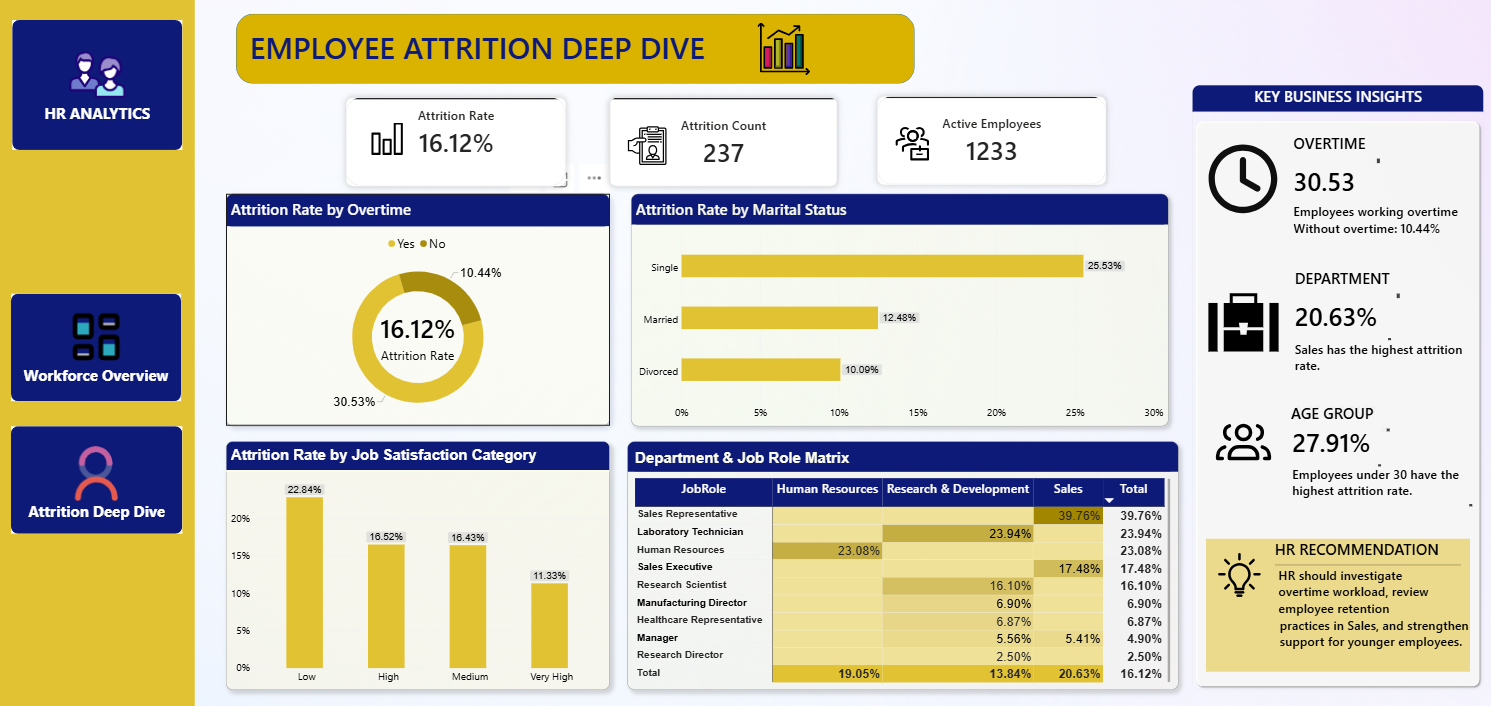

This screenshot's page, from the dashboard's own definition file:
{"tool":"powerbi","page":{"name":"Attrition Deep Dive","canvas":[4000,2000],"ordinal":1},"visuals":[{"type":"shape","box":[0,0,530,1956.7],"z":0},{"type":"shape","box":[640,90,1810,186.7],"z":0,"group":"g9"},{"type":"group","id":"g1","title":"Group 2","box":[3409.1,1491.1,519.7,354.5],"z":0,"group":"g4"},{"type":"textbox","title":"AGE GROUP","box":[3458.9,1124.4,243.3,81.9],"z":1000},{"type":"image","box":[3226.7,1513.3,178,146.7],"z":1000,"group":"g4"},{"type":"donutChart","title":"Attrition Rate by Overtime","fields":{"Category":["HR.OverTime"],"Y":["HR.Attrition Rate"]},"box":[613.3,570,1023.3,620],"z":2000},{"type":"textbox","title":"27.91%","box":[3455.6,1184.5,236.8,110.4],"z":2000,"group":"g8"},{"type":"shape","title":"KEY BUSINESS INSIGHTS","box":[3190,280,776.7,1613.3],"z":3000},{"type":"textbox","title":"Employees under 30 have the highest attrition rate.","box":[3454.5,1293.7,480,110.4],"z":3000,"group":"g8"},{"type":"clusteredColumnChart","fields":{"Category":["HR.Job Satisfaction Category"],"Y":["HR.Attrition Rate"]},"box":[613.3,1230,1023.3,663.3],"z":4000},{"type":"group","id":"g2","title":"Group 1","box":[3460,406.7,480,293.3],"z":5000,"group":"g5"},{"type":"textbox","title":"DEPARTMENT","box":[3463.4,767.5,280,81.9],"z":5000,"group":"g3"},{"type":"pivotTable","title":"Department & Job Role Matrix","fields":{"Columns":["HR.Department"],"Rows":["HR.JobRole"],"Values":["HR.Attrition Rate"]},"box":[1683.3,1230,1470,663.3],"z":5000},{"type":"cardVisual","fields":{"Data":["HR.Attrition Count"]},"box":[1636.7,313.3,606.7,236.7],"z":6000,"group":"g10"},{"type":"textbox","title":"20.63%","box":[3463.4,849.4,256.7,110.4],"z":6000,"group":"g3"},{"type":"cardVisual","fields":{"Data":["HR.Attrition Rate"]},"box":[933.3,313.3,586.7,236.7],"z":7000,"group":"g11"},{"type":"group","id":"g3","title":"Group 5","box":[3463.4,767.5,486.7,288.3],"z":7000,"group":"g6"},{"type":"textbox","title":"Sales has the highest attrition rate.","box":[3463.4,959.7,486.7,96.1],"z":7000,"group":"g3"},{"type":"clusteredBarChart","title":"Attrition Rate by Marital Status","fields":{"Category":["HR.MaritalStatus"],"Y":["HR.Attrition Rate"]},"box":[1693.3,570,1433.3,620],"z":8000},{"type":"actionButton","box":[40,1190,456.7,286.7],"z":9000},{"type":"actionButton","box":[40,836.7,453.3,286.7],"z":10000},{"type":"actionButton","box":[43.3,106.7,453.3,346.7],"z":11000},{"type":"cardVisual","fields":{"Data":["HR.Active Employees"]},"box":[2350,310,610,236.7],"z":12000,"group":"g12"},{"type":"textbox","title":"Age Group","box":[1986.7,73.3,498.2,6.5],"z":13000},{"type":"textbox","title":"OVERTIME ","box":[3461.1,406.7,230,81.9],"z":13000,"group":"g2"},{"type":"textbox","title":"EMPLOYEE ATTRITION DEEP DIVE","box":[675,125,1750,191.5],"z":14000,"group":"g9"},{"type":"group","id":"g4","title":"Group 4","box":[3226.7,1491.1,702.1,354.5],"z":14000},{"type":"textbox","title":"HR RECOMMENDATION","box":[3409.1,1491.1,497,71.8],"z":14000,"group":"g1"},{"type":"group","id":"g5","title":"Group 6","box":[3210,406.7,730,293.3],"z":15000},{"type":"textbox","title":"30.53%","box":[3461.1,488.6,220,81.9],"z":15000,"group":"g2"},{"type":"textbox","title":"HR should investigate overtime workload, review employee retention ","box":[3420,1564.4,461.5,146.9],"z":15000,"group":"g1"},{"type":"textbox","title":"Employees working overtime Without overtime: 10.44%","box":[3460,594.2,480,103.2],"z":16000,"group":"g2"},{"type":"group","id":"g6","title":"Group 7","box":[3226.7,767.5,723.3,288.3],"z":16000},{"type":"textbox","title":"practices in Sales, and strengthen support for younger employees.","box":[3421.6,1698.7,507.1,146.9],"z":16000,"group":"g1"},{"type":"textbox","title":"AGE GROUP","box":[3452.3,1125.6,263.3,76.7],"z":16002,"group":"g8"},{"type":"group","id":"g7","title":"Group 8","box":[3226.7,1125.6,707.8,278.4],"z":17000},{"type":"group","id":"g8","title":"Group 3","box":[3452.3,1125.6,482.2,278.4],"z":17000,"group":"g7"},{"type":"image","box":[996.6,380,93.3,86.7],"z":18000,"group":"g11"},{"type":"image","box":[3210,430,230,200],"z":18001,"group":"g5"},{"type":"image","box":[3226.7,820,200,186.7],"z":18002,"group":"g6"},{"type":"image","box":[3226.7,1156.7,200,150],"z":18003,"group":"g7"},{"type":"image","box":[2380,386.7,126.7,100],"z":19000,"group":"g12"},{"type":"image","box":[1683.4,383.3,106.7,116.7],"z":20000,"group":"g10"},{"type":"group","id":"g9","title":"Group 9","box":[640,90,1810,223.3],"z":21000},{"type":"image","box":[1940,113.3,315,140],"z":21002},{"type":"group","id":"g10","title":"Group 10","box":[1636.7,313.3,606.7,236.7],"z":21003},{"type":"group","id":"g11","title":"Group 11","box":[933.3,313.3,586.7,236.7],"z":21004},{"type":"group","id":"g12","title":"Group 12","box":[2350,310,610,236.7],"z":21005}]}

Visuals, with their boxes on the page's 4000x2000 design canvas (x1, y1, x2, y2). These are canvas units, not pixel positions in the 1491x706 screenshot, which may show the page scaled, cropped or inside an application window:
shape: 0, 0, 530, 1957
shape: 640, 90, 2450, 277
"Group 2" group: 3409, 1491, 3929, 1846
"AGE GROUP" textbox: 3459, 1124, 3702, 1206
image: 3227, 1513, 3405, 1660
"Attrition Rate by Overtime" donutChart: 613, 570, 1637, 1190
"27.91%" textbox: 3456, 1184, 3692, 1295
"KEY BUSINESS INSIGHTS" shape: 3190, 280, 3967, 1893
"Employees under 30 have the highest attrition rate." textbox: 3454, 1294, 3934, 1404
clusteredColumnChart - HR.Job Satisfaction Category x HR.Attrition Rate: 613, 1230, 1637, 1893
"Group 1" group: 3460, 407, 3940, 700
"DEPARTMENT" textbox: 3463, 768, 3743, 849
"Department & Job Role Matrix" pivotTable: 1683, 1230, 3153, 1893
cardVisual - HR.Attrition Count: 1637, 313, 2243, 550
"20.63%" textbox: 3463, 849, 3720, 960
cardVisual - HR.Attrition Rate: 933, 313, 1520, 550
"Group 5" group: 3463, 768, 3950, 1056
"Sales has the highest attrition rate." textbox: 3463, 960, 3950, 1056
"Attrition Rate by Marital Status" clusteredBarChart: 1693, 570, 3127, 1190
actionButton: 40, 1190, 497, 1477
actionButton: 40, 837, 493, 1123
actionButton: 43, 107, 497, 453
cardVisual - HR.Active Employees: 2350, 310, 2960, 547
"Age Group" textbox: 1987, 73, 2485, 80
"OVERTIME " textbox: 3461, 407, 3691, 489
"EMPLOYEE ATTRITION DEEP DIVE" textbox: 675, 125, 2425, 316
"Group 4" group: 3227, 1491, 3929, 1846
"HR RECOMMENDATION" textbox: 3409, 1491, 3906, 1563
"Group 6" group: 3210, 407, 3940, 700
"30.53%" textbox: 3461, 489, 3681, 570
"HR should investigate overtime workload, review employee retention " textbox: 3420, 1564, 3882, 1711
"Employees working overtime Without overtime: 10.44%" textbox: 3460, 594, 3940, 697
"Group 7" group: 3227, 768, 3950, 1056
"practices in Sales, and strengthen support for younger employees." textbox: 3422, 1699, 3929, 1846
"AGE GROUP" textbox: 3452, 1126, 3716, 1202
"Group 8" group: 3227, 1126, 3934, 1404
"Group 3" group: 3452, 1126, 3934, 1404
image: 997, 380, 1090, 467
image: 3210, 430, 3440, 630
image: 3227, 820, 3427, 1007
image: 3227, 1157, 3427, 1307
image: 2380, 387, 2507, 487
image: 1683, 383, 1790, 500
"Group 9" group: 640, 90, 2450, 313
image: 1940, 113, 2255, 253
"Group 10" group: 1637, 313, 2243, 550
"Group 11" group: 933, 313, 1520, 550
"Group 12" group: 2350, 310, 2960, 547
